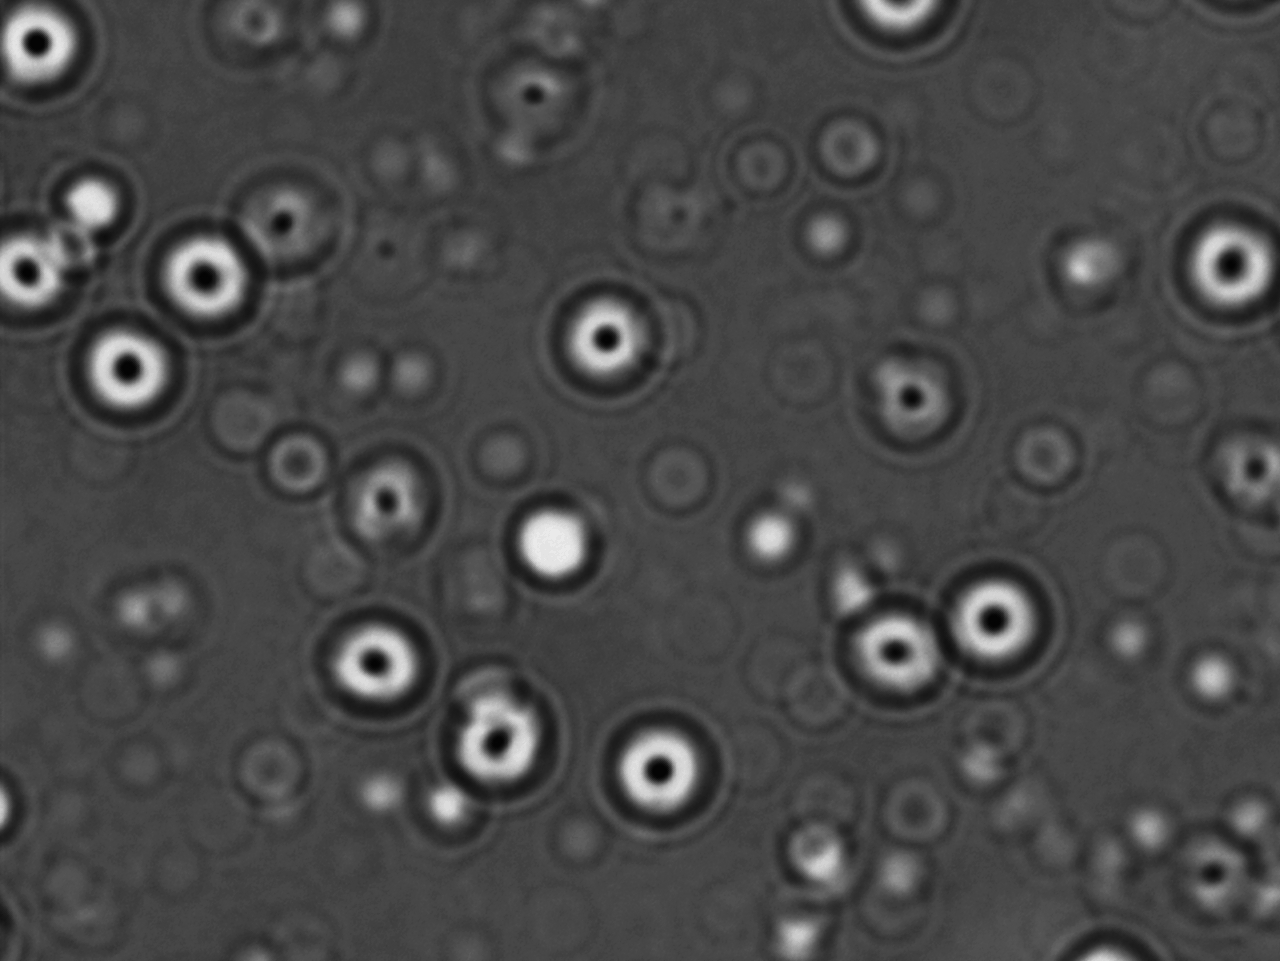depth:16: (820, 583, 958, 721), (588, 707, 730, 839), (537, 275, 675, 406), (138, 215, 279, 340), (423, 672, 556, 803), (927, 559, 1065, 682), (61, 312, 191, 436), (307, 602, 436, 718), (1168, 197, 1280, 326)
